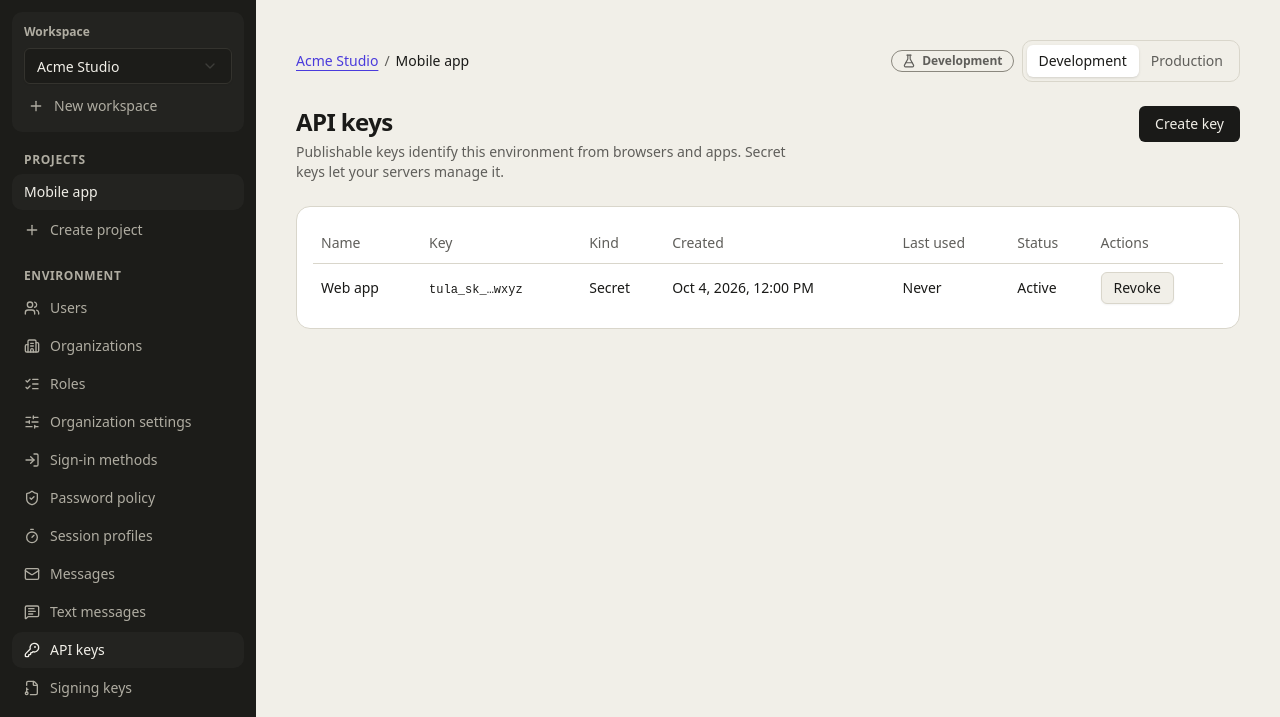
a confirmed change is sent once, however slow the list is to come back › an API key › a revocation
Click the button with aria-label "Revoke Web app" at (1137, 288), box [1100, 272, 1174, 304]
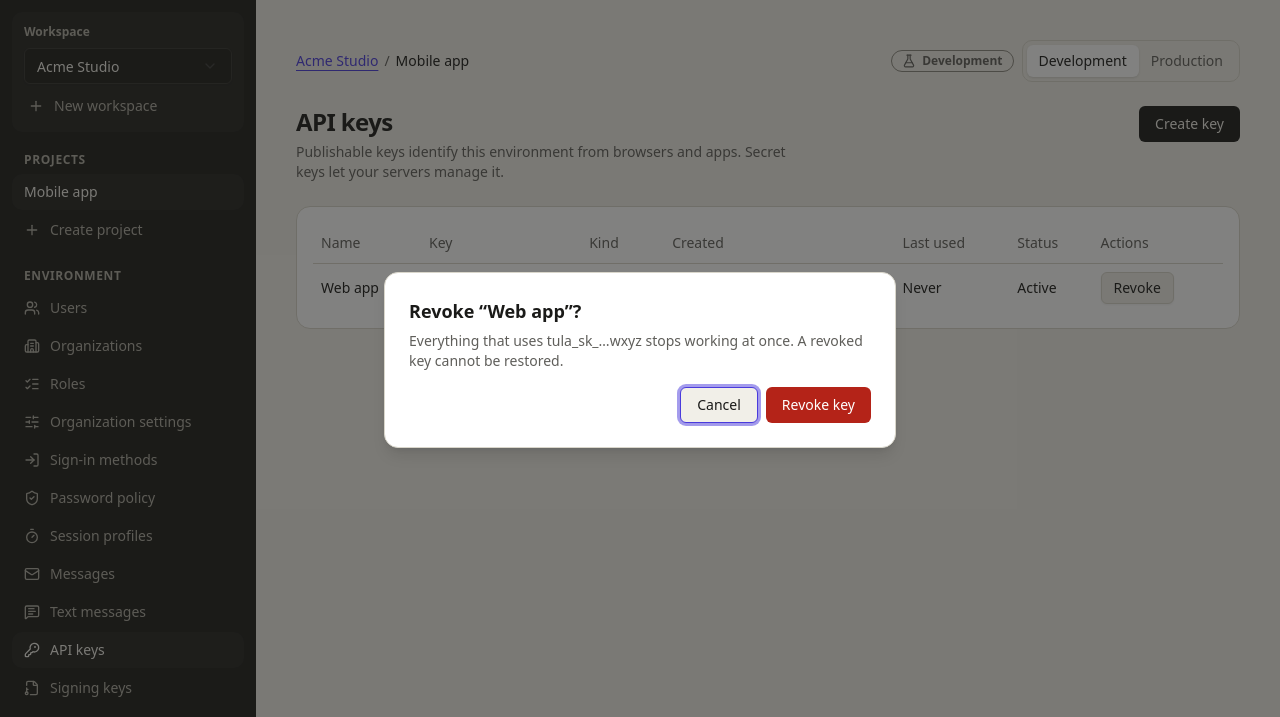
Click the button "Revoke key" at (818, 405), box [766, 387, 871, 423]
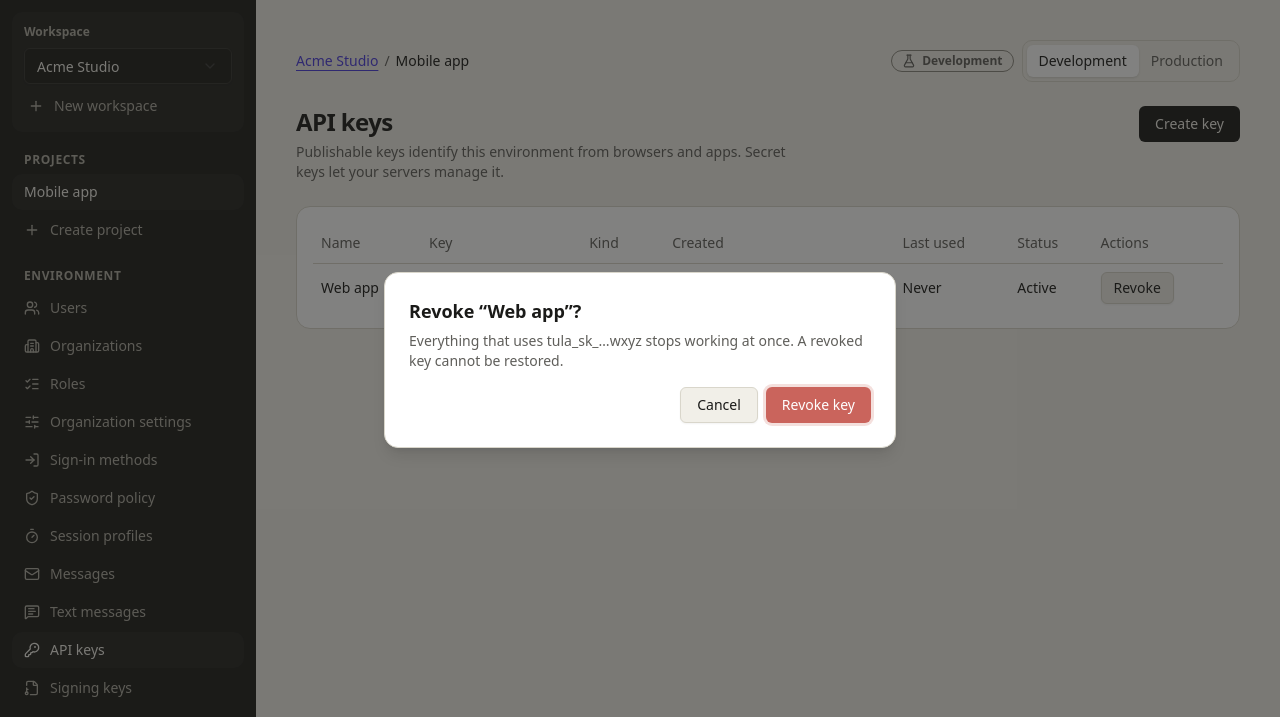
Result: the button "Revoke key" is disabled
Click the button "Revoke key" at (818, 405), box [766, 387, 871, 423]
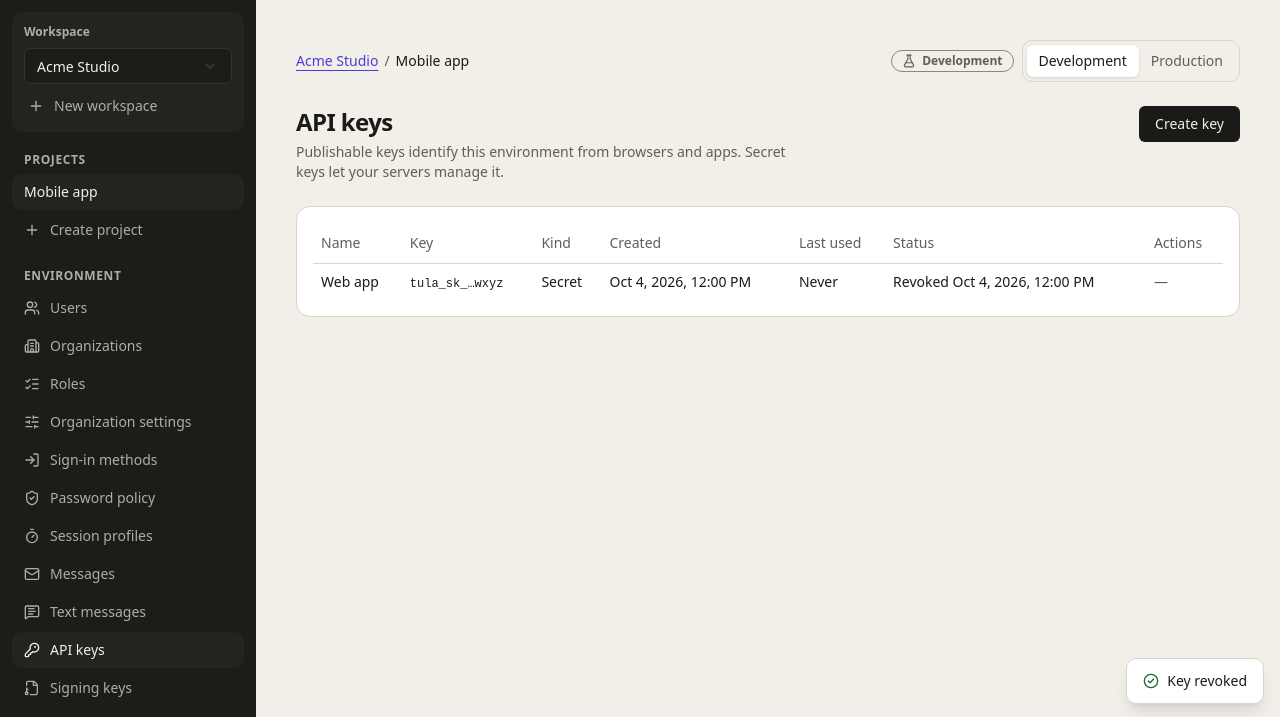
Result: the text "Revoked Oct 4, 2026, 12:00 PM" is shown at [893, 272, 1094, 290]
